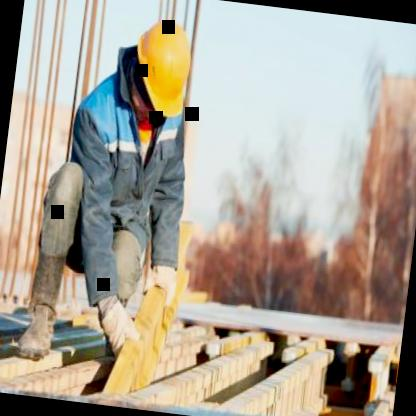helmet: (120, 11, 200, 134)
